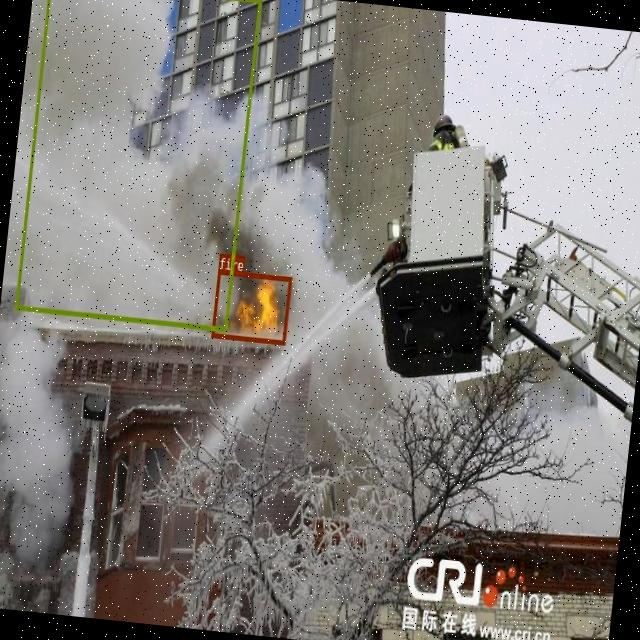fire: (210, 269, 292, 343)
smoke: (14, 0, 261, 329)
